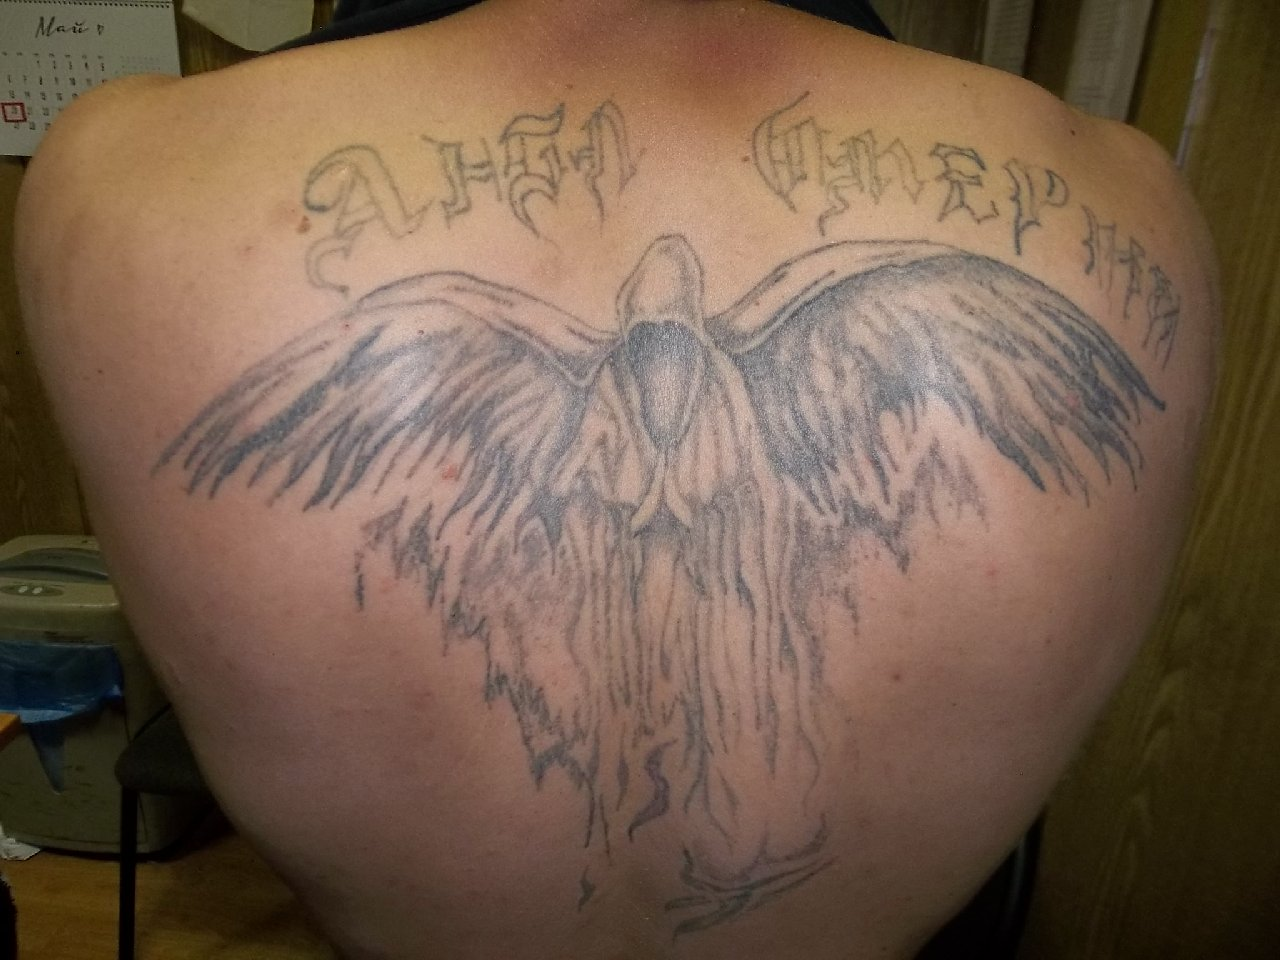tatu3_bukva: (297, 98, 1187, 380)
